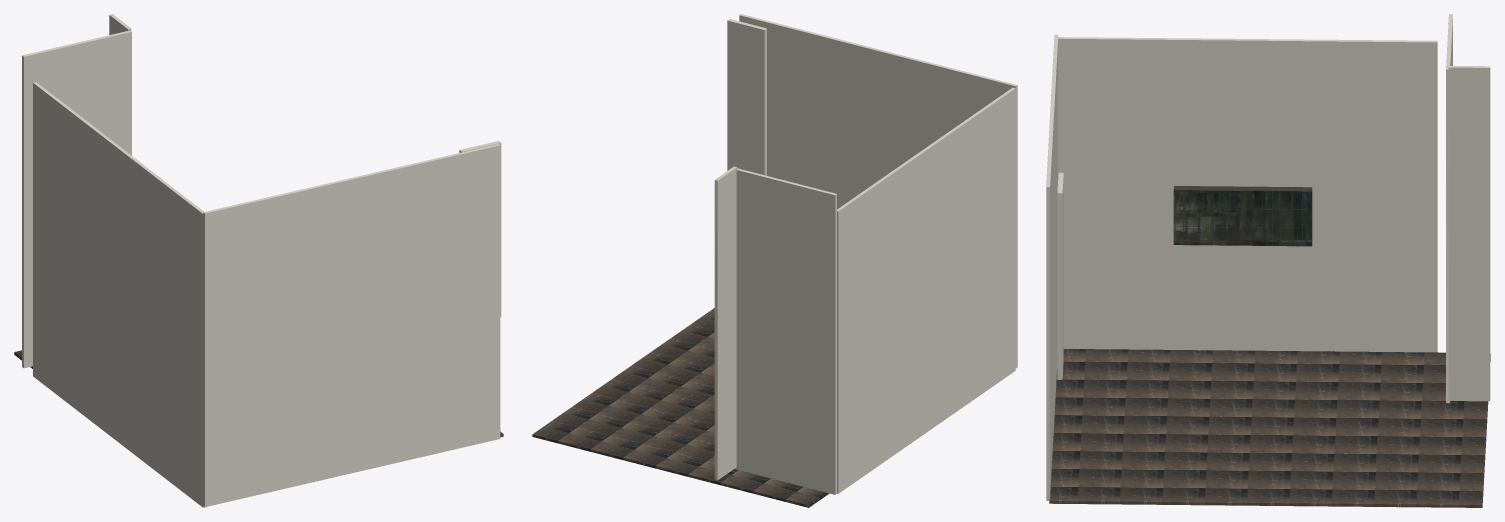
3 views of the same model, side by side, from view 1: azimuth 30°, elevation 25°; view 2: azimuth 150°, elevation 25°; view 3: azimuth 270°, elevation 25° (orthographic). The views are drawn at different scales.
Parts seen in each view (by area): view 1: rear_wall_plane, prep_backsplash_wall_plane, fridge_right_wall; view 2: prep_backsplash_wall_plane, fridge_right_wall, rear_wall_plane, floor_extent, sink_opening_end_wall; view 3: prep_backsplash_wall_plane, floor_extent, fridge_right_wall, green_tile_backsplash, rear_wall_plane, sink_opening_end_wall.
Part boxes in pixels (bbox=[...]): rear_wall_plane: bbox=[203, 144, 500, 506]; prep_backsplash_wall_plane: bbox=[33, 82, 206, 507]; fridge_right_wall: bbox=[22, 14, 131, 368]; prep_backsplash_wall_plane: bbox=[837, 87, 1015, 493]; fridge_right_wall: bbox=[714, 166, 836, 494]; rear_wall_plane: bbox=[739, 14, 1017, 368]; floor_extent: bbox=[532, 308, 829, 507]; sink_opening_end_wall: bbox=[727, 19, 766, 175]; prep_backsplash_wall_plane: bbox=[1058, 37, 1437, 352]; floor_extent: bbox=[1049, 349, 1490, 507]; fridge_right_wall: bbox=[1446, 14, 1490, 403]; green_tile_backsplash: bbox=[1173, 186, 1312, 246]; rear_wall_plane: bbox=[1046, 34, 1058, 500]; sink_opening_end_wall: bbox=[1057, 172, 1063, 379].
Size of the model in its own units: 2.71 by 2.71 by 3.2.
6 materials, 2 textured.
